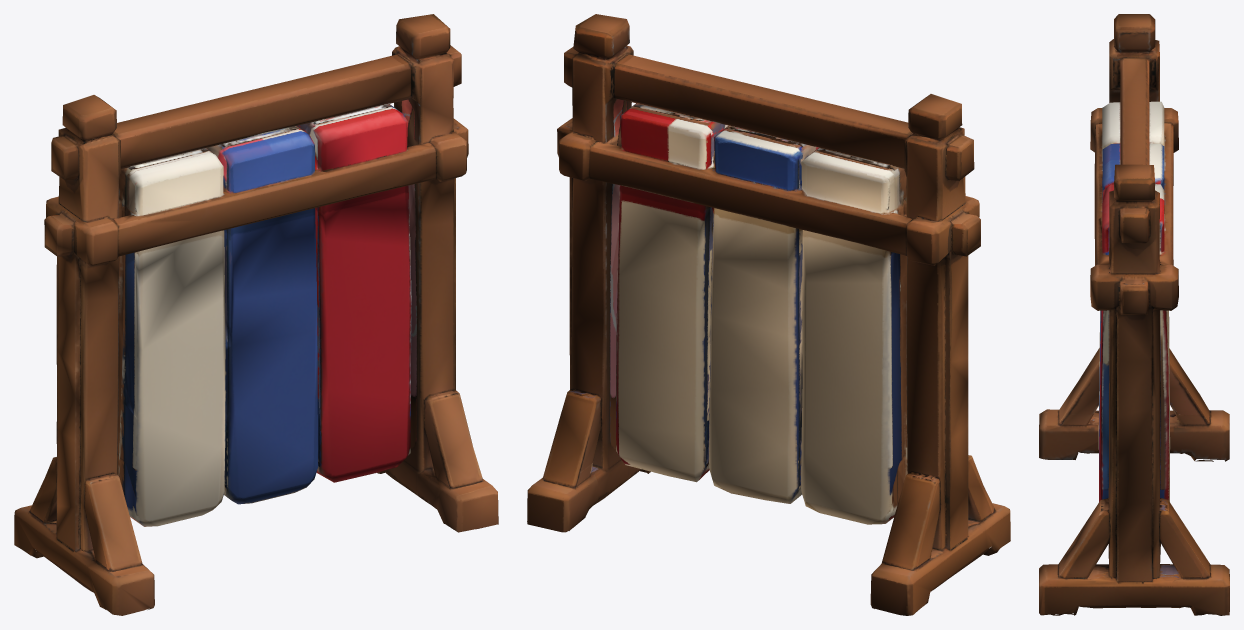
File: cloth_rack.glb
3 views of the same model, side by side, from view 1: azimuth 30°, elevation 25°; view 2: azimuth 150°, elevation 25°; view 3: azimuth 270°, elevation 25° (orthographic). The views are drawn at different scales.
Parts seen in each view (by area): view 1: low; view 2: low; view 3: low.
Part boxes in pixels (bbox=[...]): low: bbox=[14, 14, 498, 615]; low: bbox=[527, 14, 1010, 615]; low: bbox=[1039, 14, 1229, 615].
Bounding box in the file's own units: 0.9099 × 0.9996 × 0.3965.
Materials: 1 (1 with a texture image).
